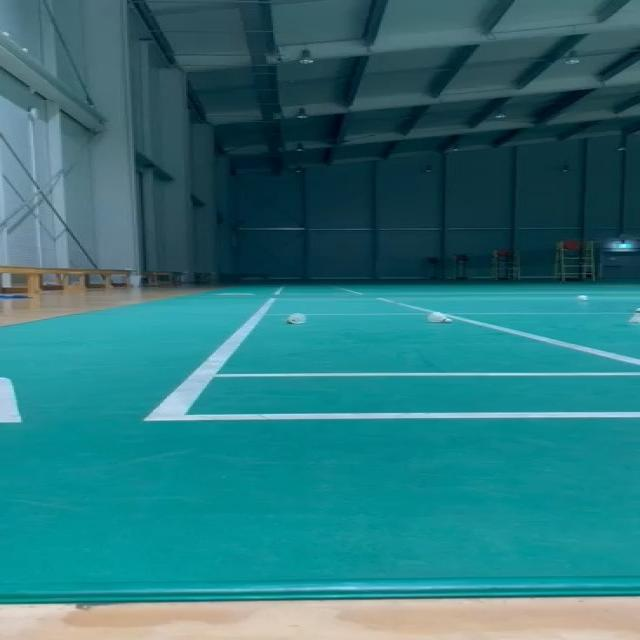Shuttle: (282, 312, 309, 326), (426, 313, 453, 324), (628, 307, 640, 323), (576, 295, 590, 301)
